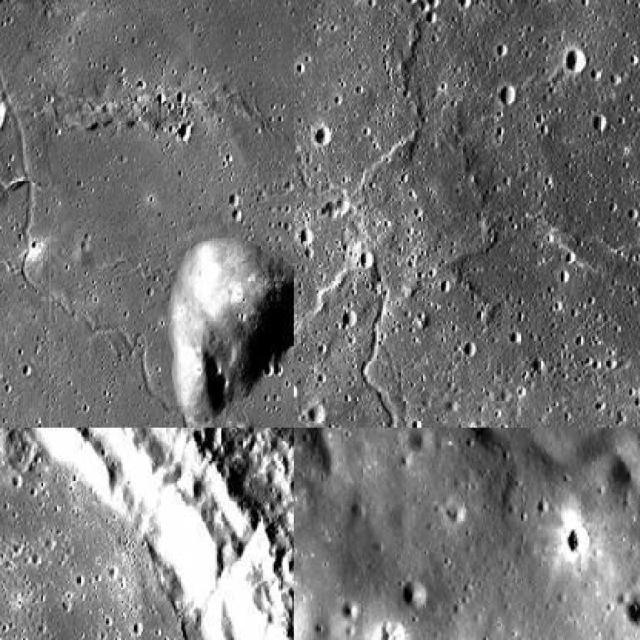rille: (0, 26, 292, 426), (0, 427, 292, 638), (294, 9, 426, 426), (294, 428, 638, 489), (359, 262, 463, 426), (0, 86, 29, 196)
